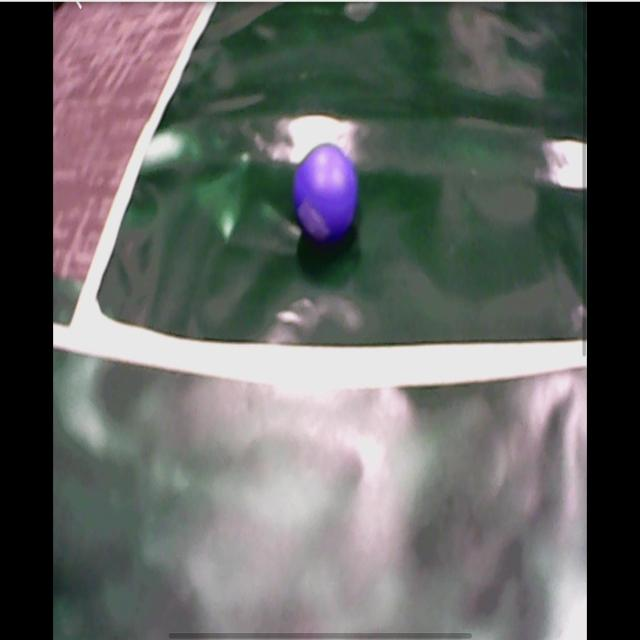ball: (296, 143, 358, 242)
